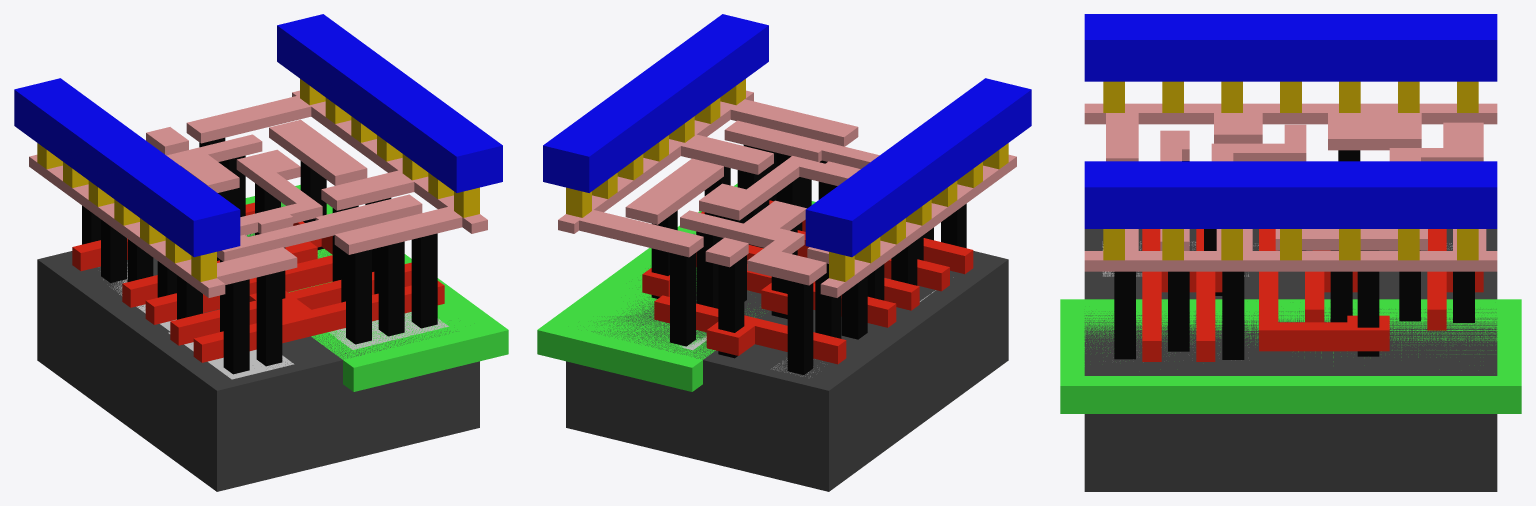
Rendered from sky130_fd_sc_hd__or2b_2.obj.
The picture shows the model from 3 angles, left to right: view 1: azimuth 30°, elevation 25°; view 2: azimuth 150°, elevation 25°; view 3: azimuth 270°, elevation 25°; orthographic projection. The views are drawn at different scales.
Parts seen in each view (by area): view 1: subs, metal1, li, licon, poly, nwell, mcon, tap, diff; view 2: subs, metal1, li, licon, nwell, poly, mcon; view 3: metal1, subs, li, nwell, poly, licon, mcon.
Part boxes in pixels (<box>): subs: <box>37,203,479,491</box>; metal1: <box>14,14,502,257</box>; li: <box>29,90,487,297</box>; licon: <box>82,137,437,374</box>; poly: <box>72,202,444,362</box>; nwell: <box>245,185,508,391</box>; mcon: <box>37,79,479,281</box>; tap: <box>246,235,448,349</box>; diff: <box>103,262,294,379</box>; subs: <box>566,232,1008,491</box>; metal1: <box>543,14,1031,257</box>; li: <box>558,90,1016,297</box>; licon: <box>651,145,966,374</box>; nwell: <box>537,183,815,391</box>; poly: <box>642,200,973,364</box>; mcon: <box>566,79,1008,281</box>; metal1: <box>1084,14,1497,228</box>; subs: <box>1084,229,1497,491</box>; li: <box>1084,103,1497,271</box>; nwell: <box>1060,299,1521,413</box>; poly: <box>1142,229,1483,361</box>; licon: <box>1114,150,1474,359</box>; mcon: <box>1103,81,1478,260</box>.
Size of the model in its own units: 3.2 by 2.74 by 3.6.
